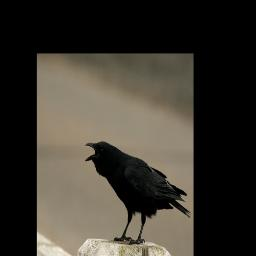Crow: (85, 141, 191, 246)
